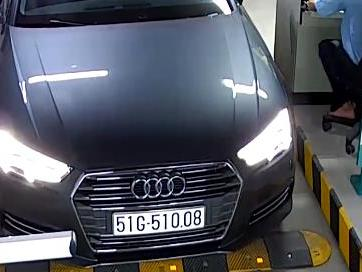car: (111, 205, 210, 236)
